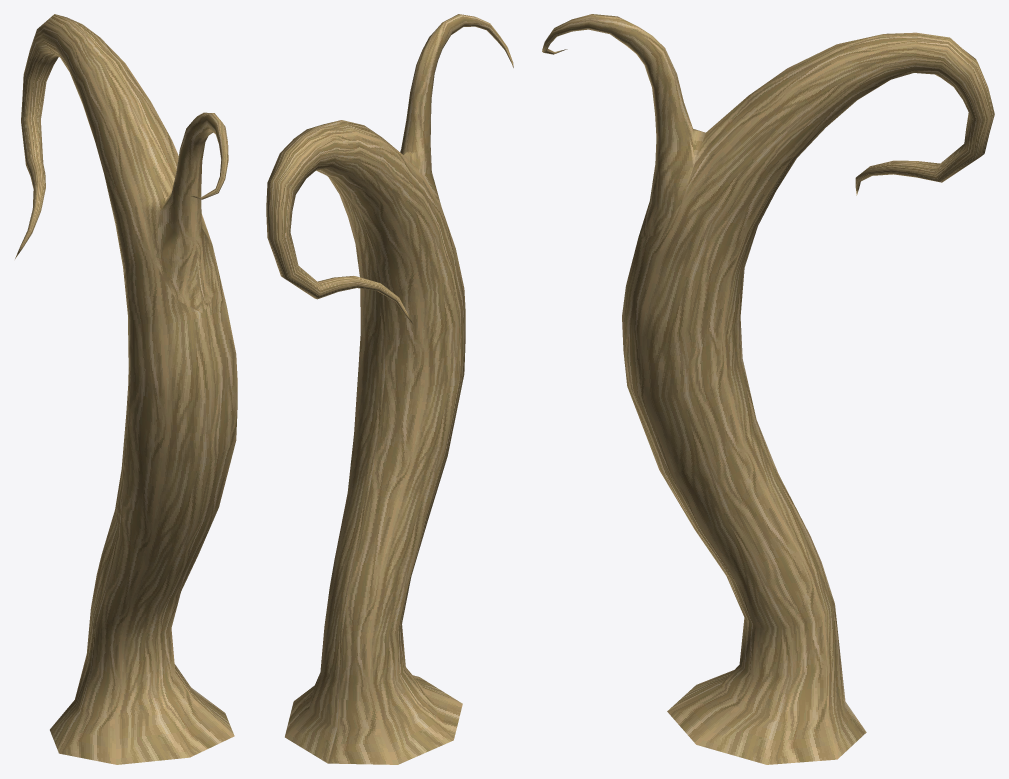
File: EKH_BARRELROOM_PS_JA1_TREE.fbx
The picture shows the model from 3 angles, left to right: view 1: azimuth 30°, elevation 25°; view 2: azimuth 150°, elevation 25°; view 3: azimuth 270°, elevation 25°; orthographic projection. The views are drawn at different scales.
Parts seen in each view (by area): view 1: EKH_BARRELROOM_PS_JA1_TREE; view 2: EKH_BARRELROOM_PS_JA1_TREE; view 3: EKH_BARRELROOM_PS_JA1_TREE.
Boxes of the visible parts, x1=… form: EKH_BARRELROOM_PS_JA1_TREE: x1=15, y1=14, x2=237, y2=764; EKH_BARRELROOM_PS_JA1_TREE: x1=266, y1=14, x2=513, y2=764; EKH_BARRELROOM_PS_JA1_TREE: x1=542, y1=14, x2=994, y2=764.
Bounding box in the file's own units: 8829 × 34326 × 19713.
1 material, 1 textured.
